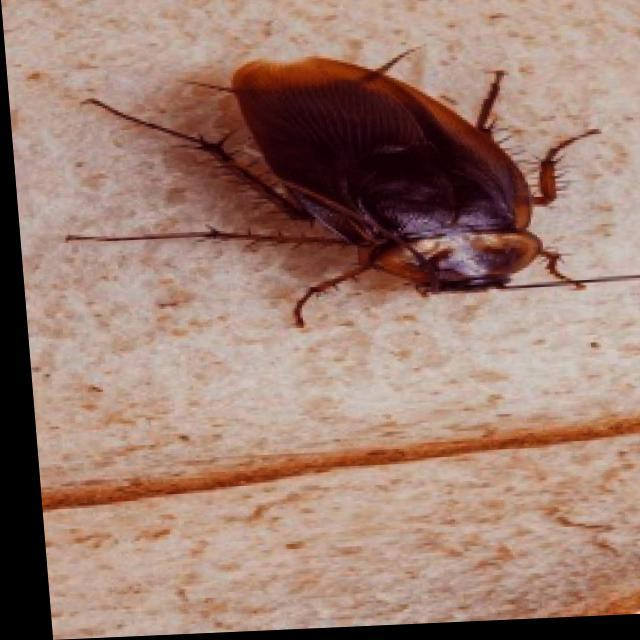cockroach: (62, 44, 608, 333)
